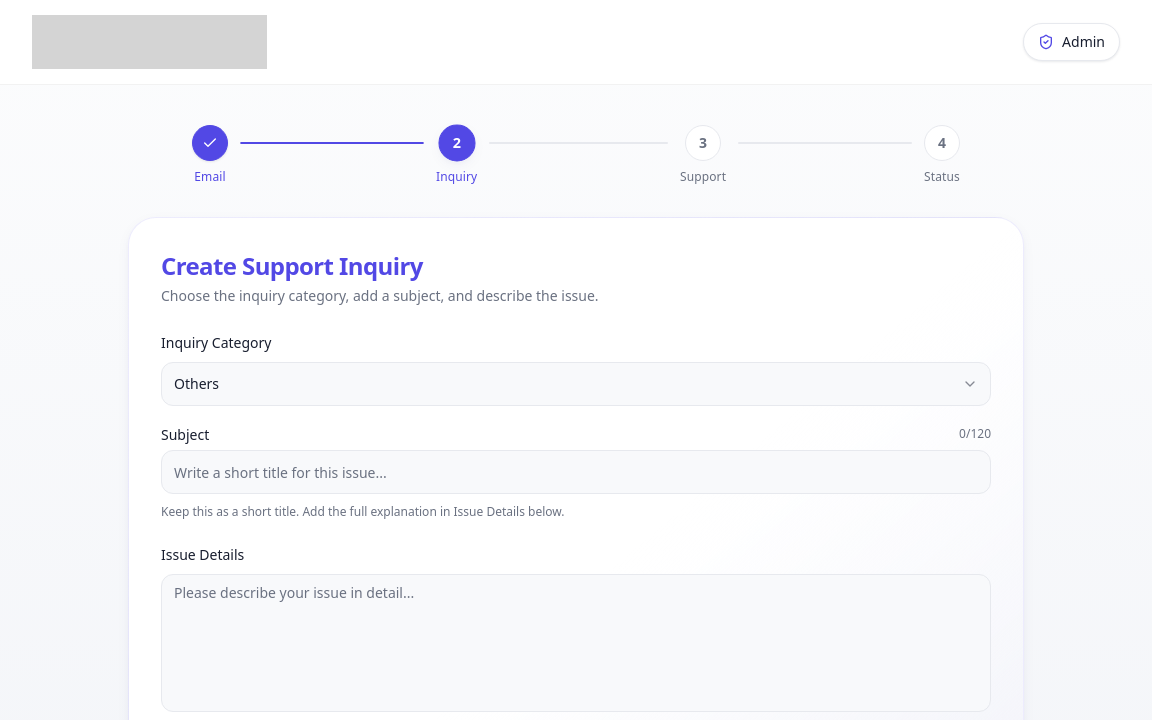
it: InquiryDetails › hides restricted categories for kbc_users_data learner accounts
Step 1. Click the dropdown → [197, 384], box x1=161 y1=362 x2=991 y2=406
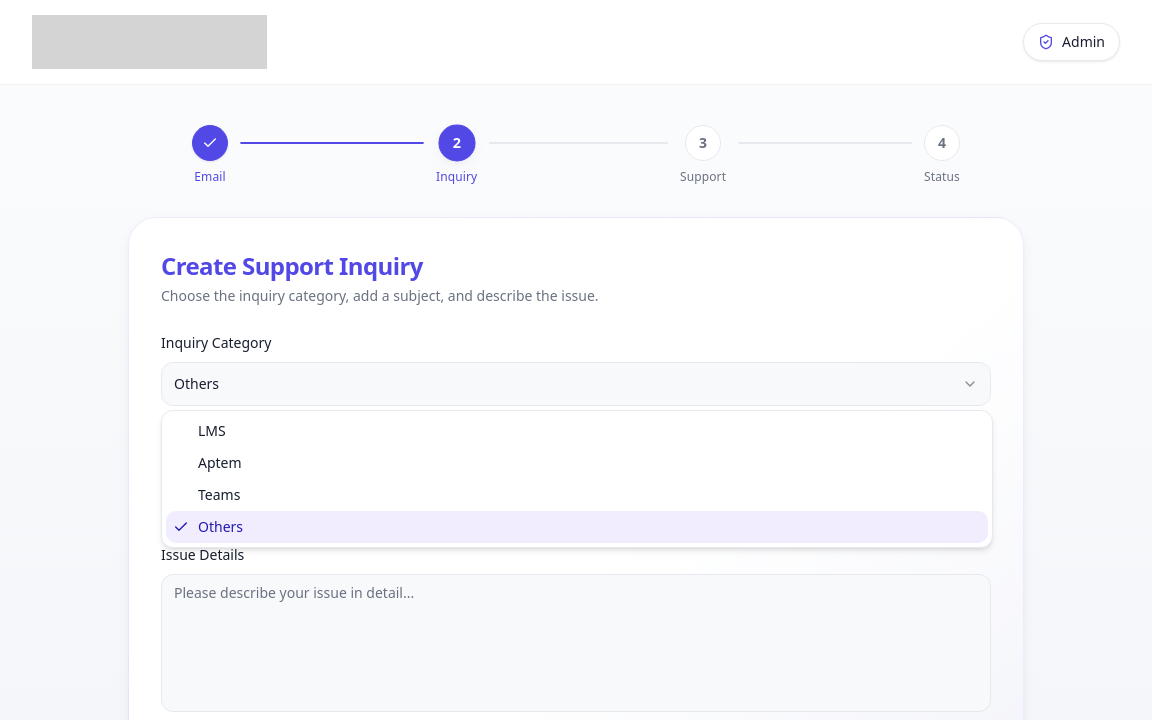
Now the text "LMS" is shown, box x1=198 y1=421 x2=226 y2=441
